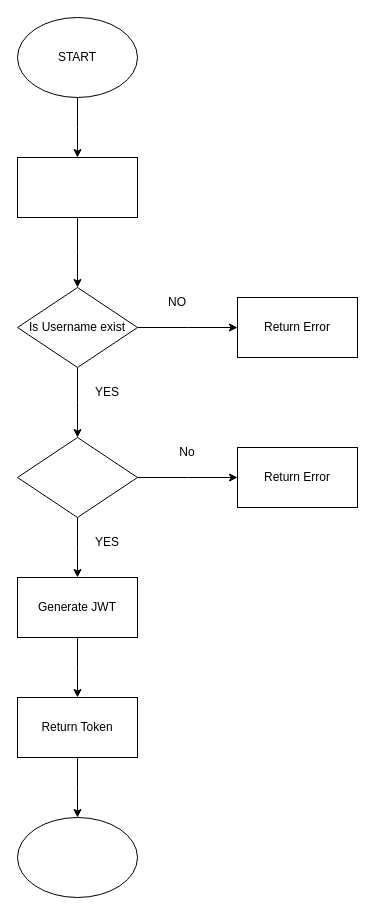
Image size: 375x915. Some labels were removed from this diagram. The box of each missing label's shape, as (x1, y1, x2, y2) in pixels:
END: (16, 816, 138, 898)
Is Password exist: (16, 436, 138, 518)
Receive Login Request: (16, 156, 138, 218)
